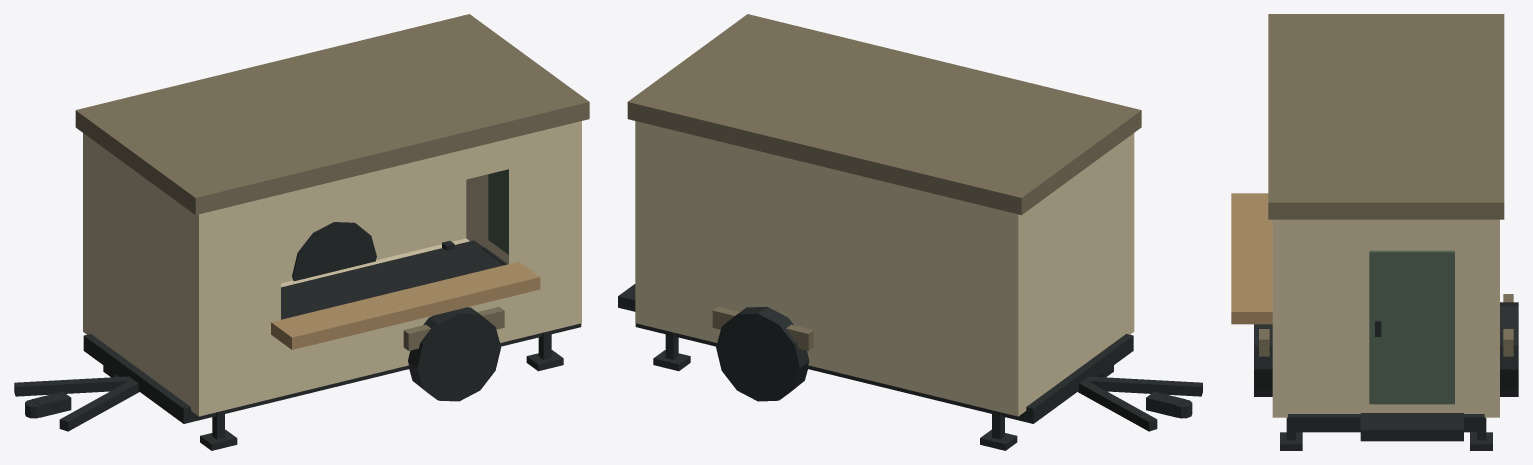
Rendered from lwf_food_van_chassis_open_service_v1.glb.
3 renders of one model, left to right at view 1: azimuth 30°, elevation 25°; view 2: azimuth 150°, elevation 25°; view 3: azimuth 270°, elevation 25°, orthographic.
Parts seen in each view (by area): view 1: lwf_food_van_chassis_open_service_v1; view 2: lwf_food_van_chassis_open_service_v1; view 3: lwf_food_van_chassis_open_service_v1.
Part boxes in pixels (left/top/right/bottom): lwf_food_van_chassis_open_service_v1: left=14, top=14, right=589, bottom=450; lwf_food_van_chassis_open_service_v1: left=618, top=14, right=1202, bottom=450; lwf_food_van_chassis_open_service_v1: left=1231, top=14, right=1518, bottom=450.
Bounding box in the file's own units: 5.85 × 2.75 × 2.78.
Materials: 1 (1 with a texture image).
